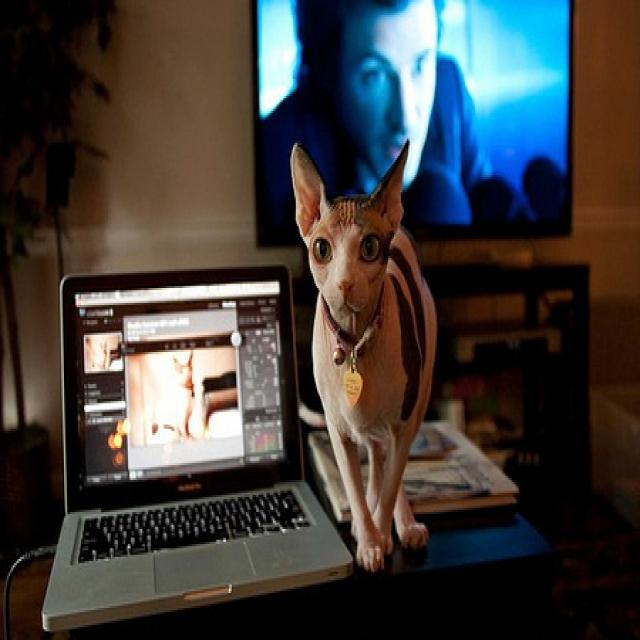Sphynx: (288, 134, 442, 576)
